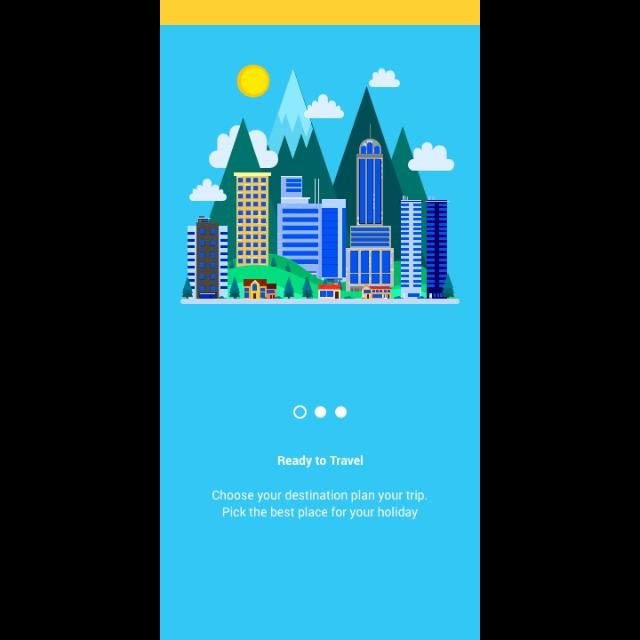image: (180, 64, 460, 304)
pageindicator: (293, 404, 349, 420)
text: (212, 488, 428, 520), (278, 454, 364, 470)
